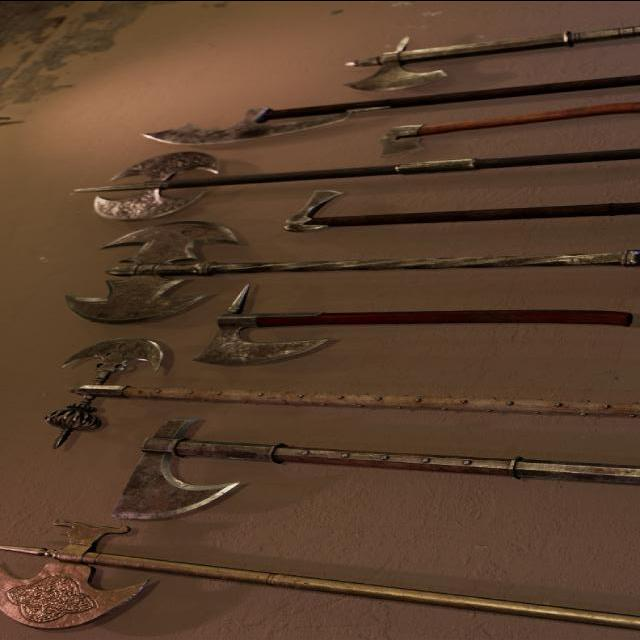axe: (1, 515, 640, 640), (41, 338, 640, 450), (61, 218, 640, 326), (108, 416, 640, 520), (69, 148, 640, 224), (188, 280, 636, 367), (138, 72, 640, 146), (340, 13, 640, 93), (269, 189, 640, 237), (373, 102, 640, 159)
